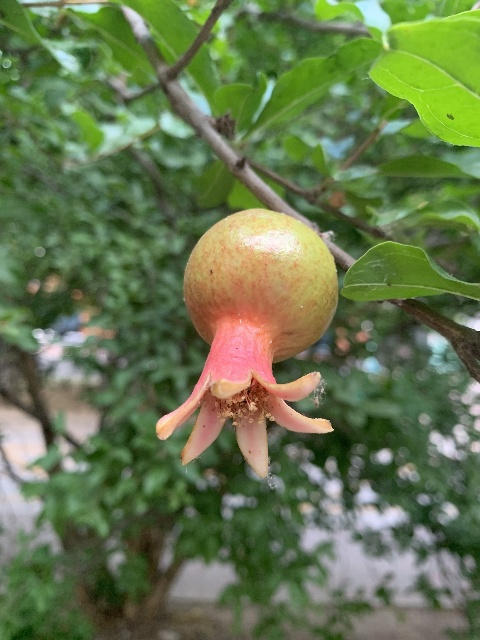mid-growth: (154, 207, 339, 481)
